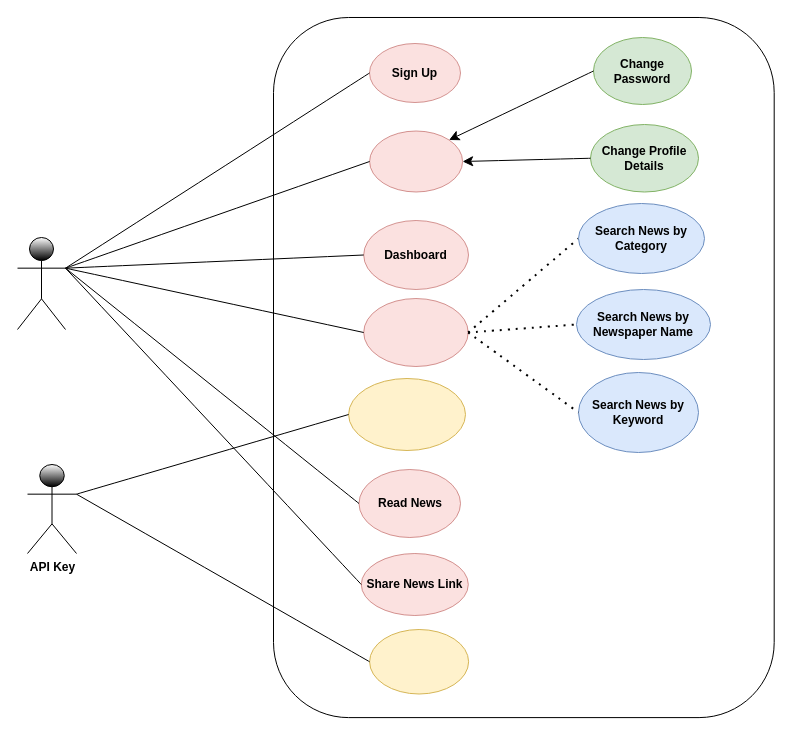
Image size: 792x736. Some labels were removed from this diagram. Each missing label, with the centre of its shape:
"Display News" belongs at point (407, 414).
"Fetch News" belongs at point (419, 661).
"Search News" belongs at point (415, 332).
"Sign In" belongs at point (416, 161).
"User" belongs at point (41, 283).
